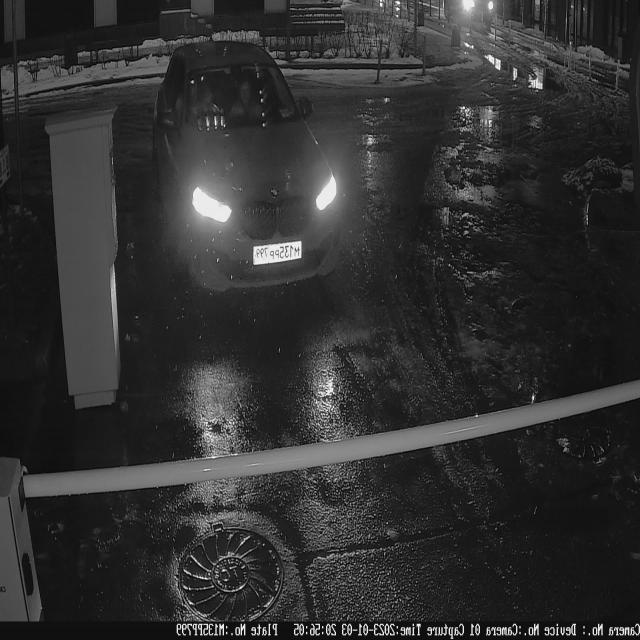car-plate-numbers: (252, 237, 306, 269)
